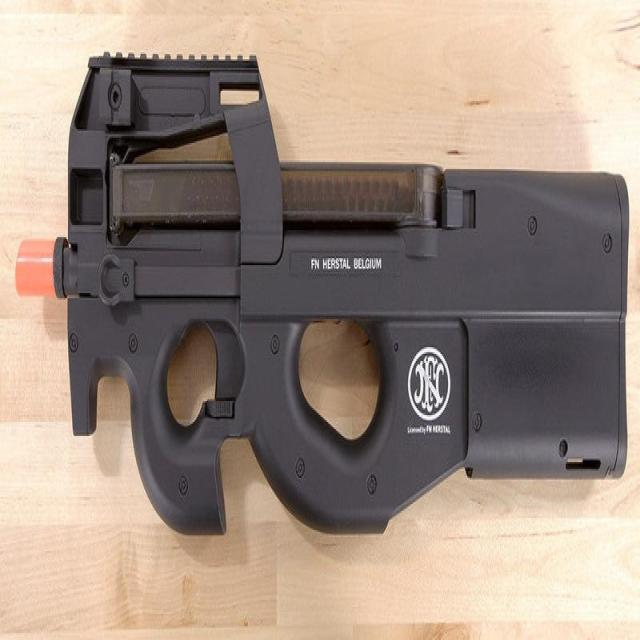Gun: (9, 42, 632, 542)
